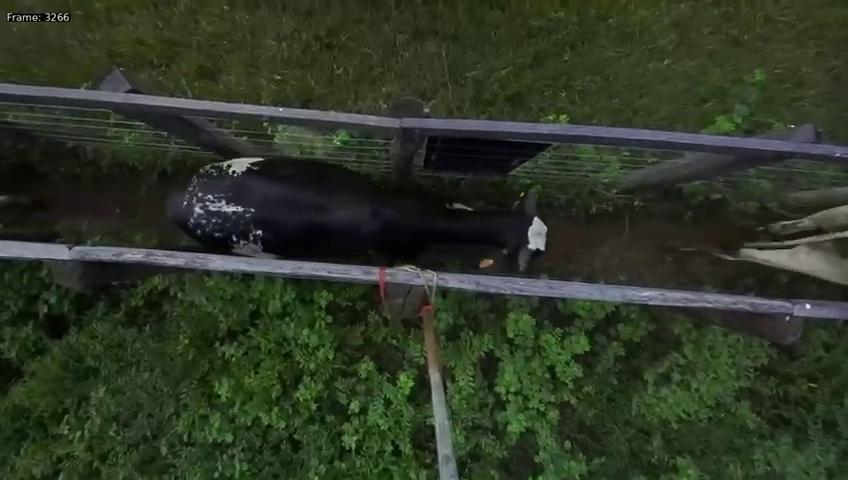cattle: (161, 141, 558, 281)
